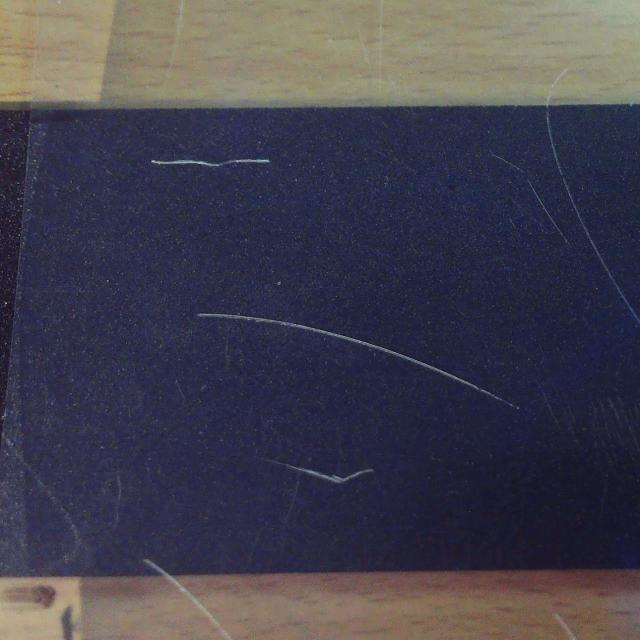defect: (468, 109, 640, 328), (196, 313, 520, 411), (266, 448, 379, 495), (148, 152, 276, 174), (136, 552, 179, 574)
